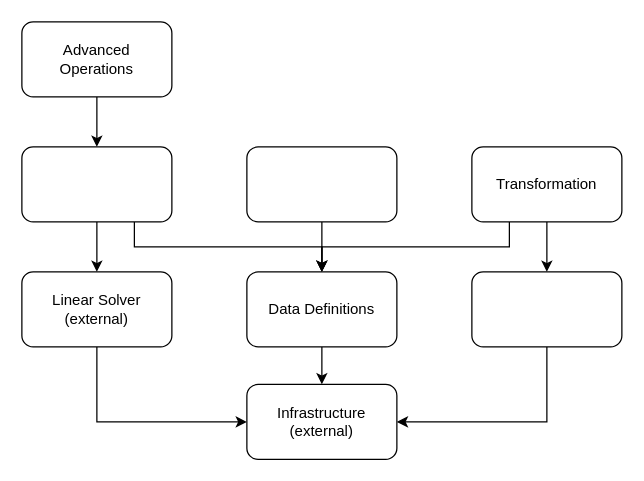
This 644x481 diagram has some shape labels left out. The box of each missing label's shape, as (x1, y1, x2, y2) in pixels:
Basic Operations: (21, 146, 172, 222)
Conversion: (246, 146, 397, 222)
Integral (external): (471, 271, 622, 347)
